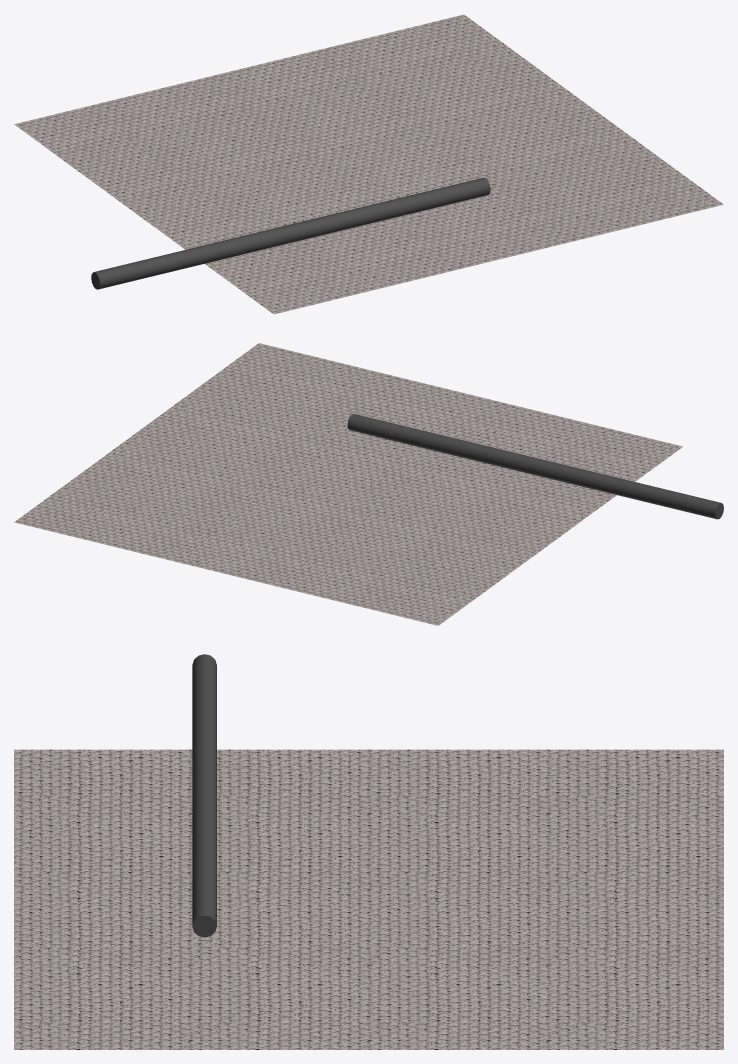
File: ebonite_rod_rubbed.fbx
The picture shows the model from 3 angles, top to bottom: view 1: azimuth 30°, elevation 25°; view 2: azimuth 150°, elevation 25°; view 3: azimuth 270°, elevation 25°; orthographic projection. The views are drawn at different scales.
Parts seen in each view (by area): view 1: woolen, ebonite1; view 2: woolen, ebonite1; view 3: woolen, ebonite1.
Part boxes in pixels (x1,y1,x2,y2): woolen: (14,14,723,314); ebonite1: (91,177,490,289); woolen: (14,343,682,625); ebonite1: (347,414,723,519); woolen: (14,749,723,1049); ebonite1: (192,654,216,937).
Size of the model in its own units: 110 by 3.21 by 88.29.
Materials: 2 (1 with a texture image).
